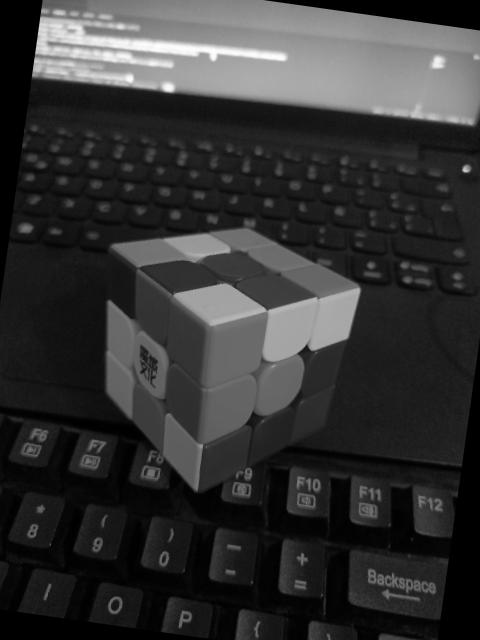rubik: (75, 206, 368, 512)
